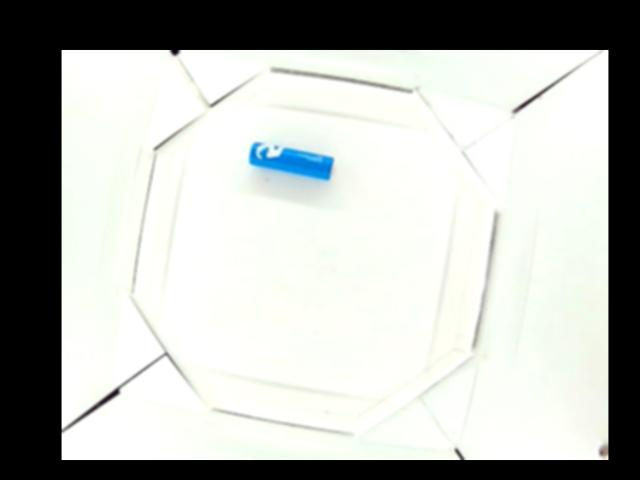Battery: (246, 140, 334, 179)
